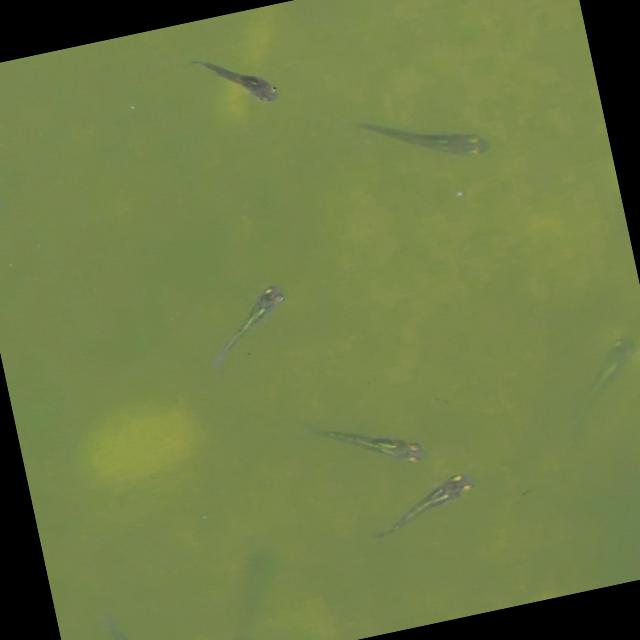Sivrisinek Baligi: (354, 92, 496, 180), (196, 280, 302, 374), (549, 327, 640, 428), (310, 404, 427, 482), (365, 464, 482, 540), (185, 39, 282, 119), (94, 594, 180, 640)
